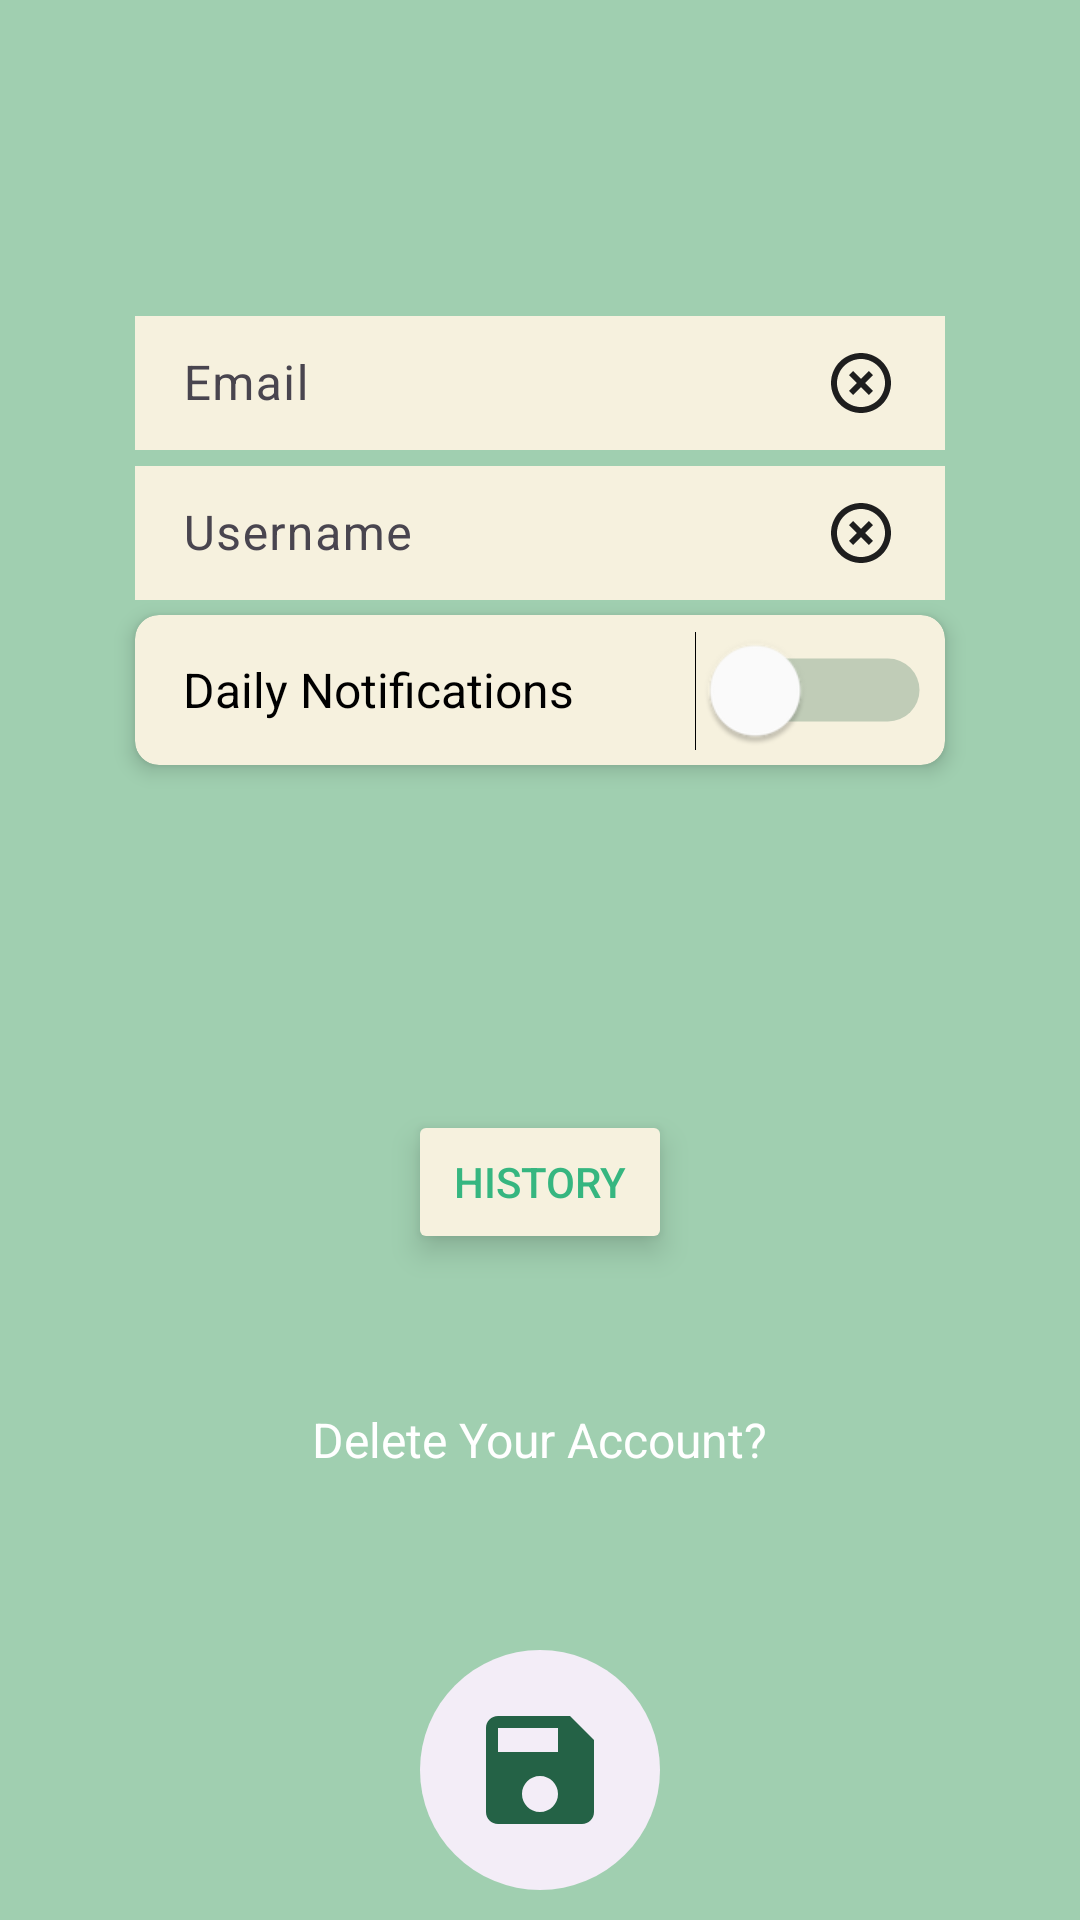

Named icons in this screenshot (1080 x 1920) and their bounding boxes, (x1, y1, x2, y2):
Save button: (420, 1650, 660, 1890)
